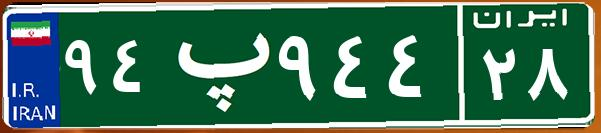2: (475, 38, 525, 113)
4: (385, 28, 445, 110), (330, 28, 385, 110), (110, 28, 158, 105)
8: (525, 38, 570, 115)
9: (273, 28, 330, 110), (57, 26, 110, 107)
پ: (158, 15, 273, 115)
